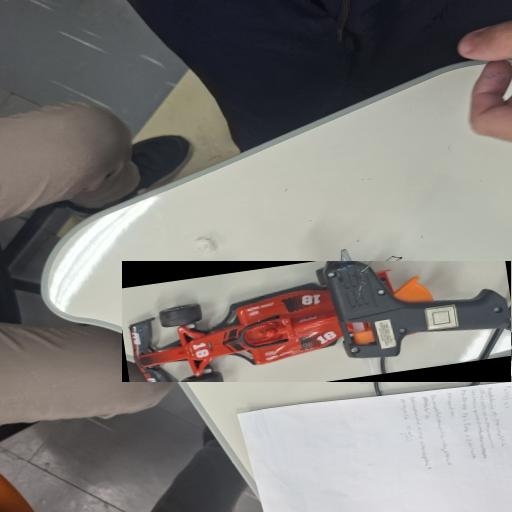carro: (122, 261, 511, 382)
